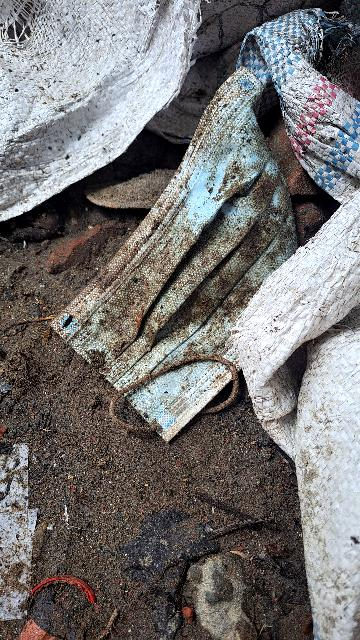mask: (0, 0, 360, 490)
